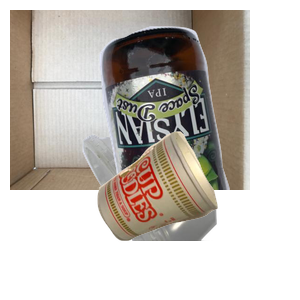cardboard: (10, 10, 250, 190)
glass: (97, 24, 300, 204)
plastic: (80, 120, 289, 300)
trash: (95, 129, 300, 300)
